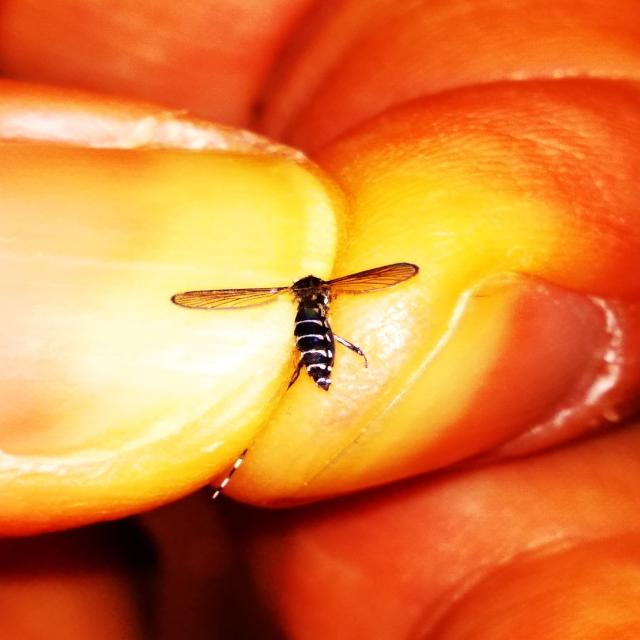albopictus: (176, 245, 410, 406)
